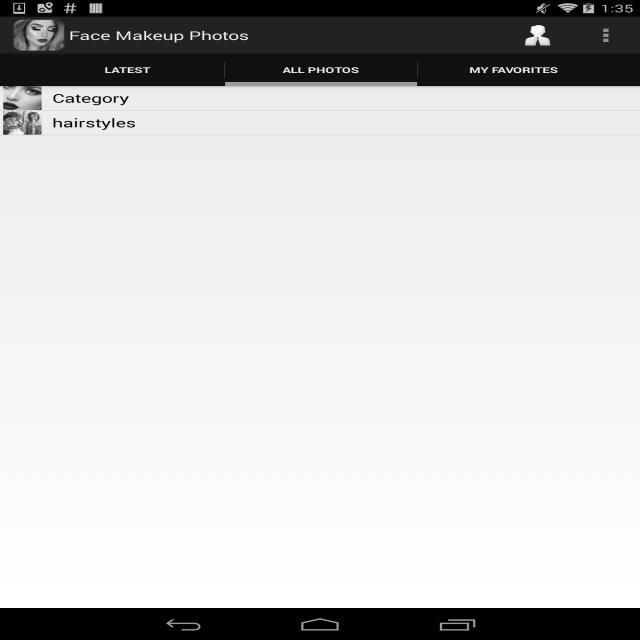ImageView: (14, 19, 64, 52), (3, 86, 42, 110), (3, 110, 42, 134)
TextView: (69, 27, 249, 43), (571, 16, 640, 54), (503, 17, 572, 54), (52, 114, 136, 131), (52, 90, 130, 106), (469, 64, 558, 76), (282, 64, 360, 76), (104, 64, 151, 76)
